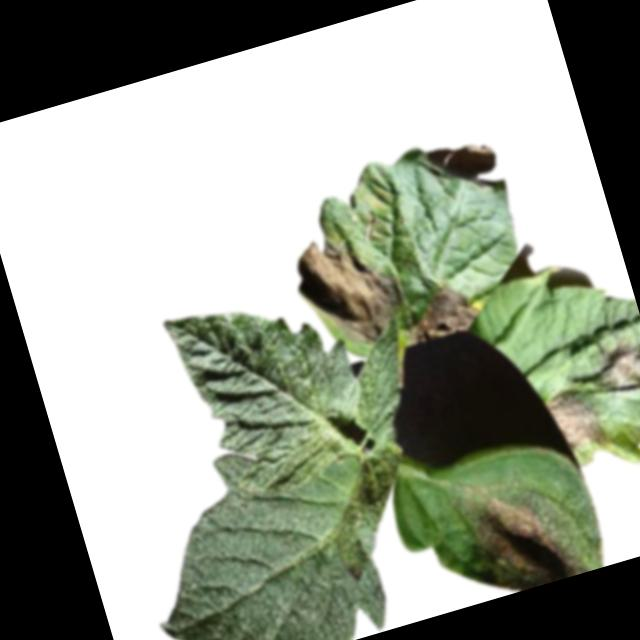Late_blight: (286, 222, 414, 361), (462, 476, 583, 599), (398, 274, 485, 348), (425, 134, 507, 205), (544, 380, 610, 457), (589, 334, 640, 402), (638, 424, 640, 450)
healthy: (129, 450, 410, 640), (161, 276, 376, 513), (332, 320, 427, 448)
